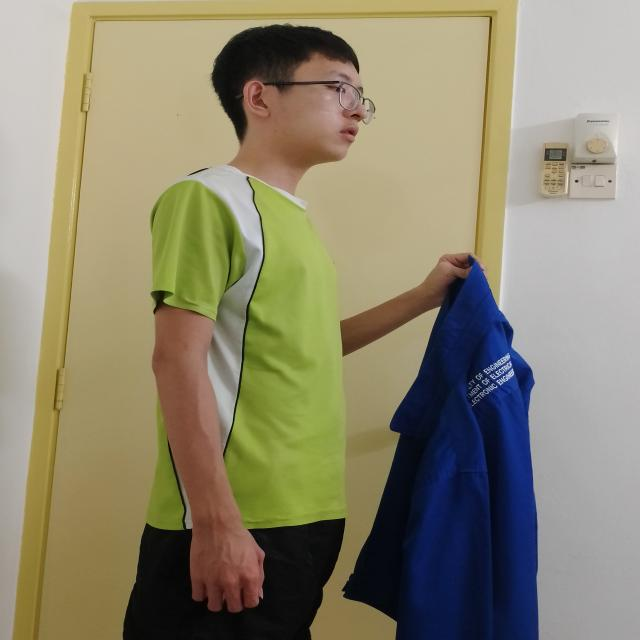person_without_labcoat: (123, 25, 538, 640)
